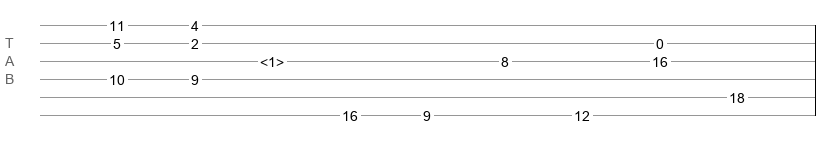0: (656, 36, 664, 46)
10: (109, 72, 125, 82)
11: (109, 18, 125, 28)
12: (574, 108, 590, 118)
16: (342, 108, 358, 118), (652, 54, 668, 64)
18: (729, 90, 745, 100)
2: (191, 36, 199, 46)
4: (191, 18, 199, 28)
5: (113, 36, 121, 46)
8: (501, 54, 509, 64)
9: (191, 72, 199, 82), (423, 108, 431, 118)
harmonic: (260, 54, 284, 64)
